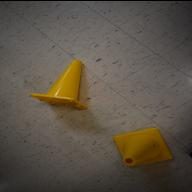cone: (30, 58, 88, 108), (112, 127, 174, 165)
